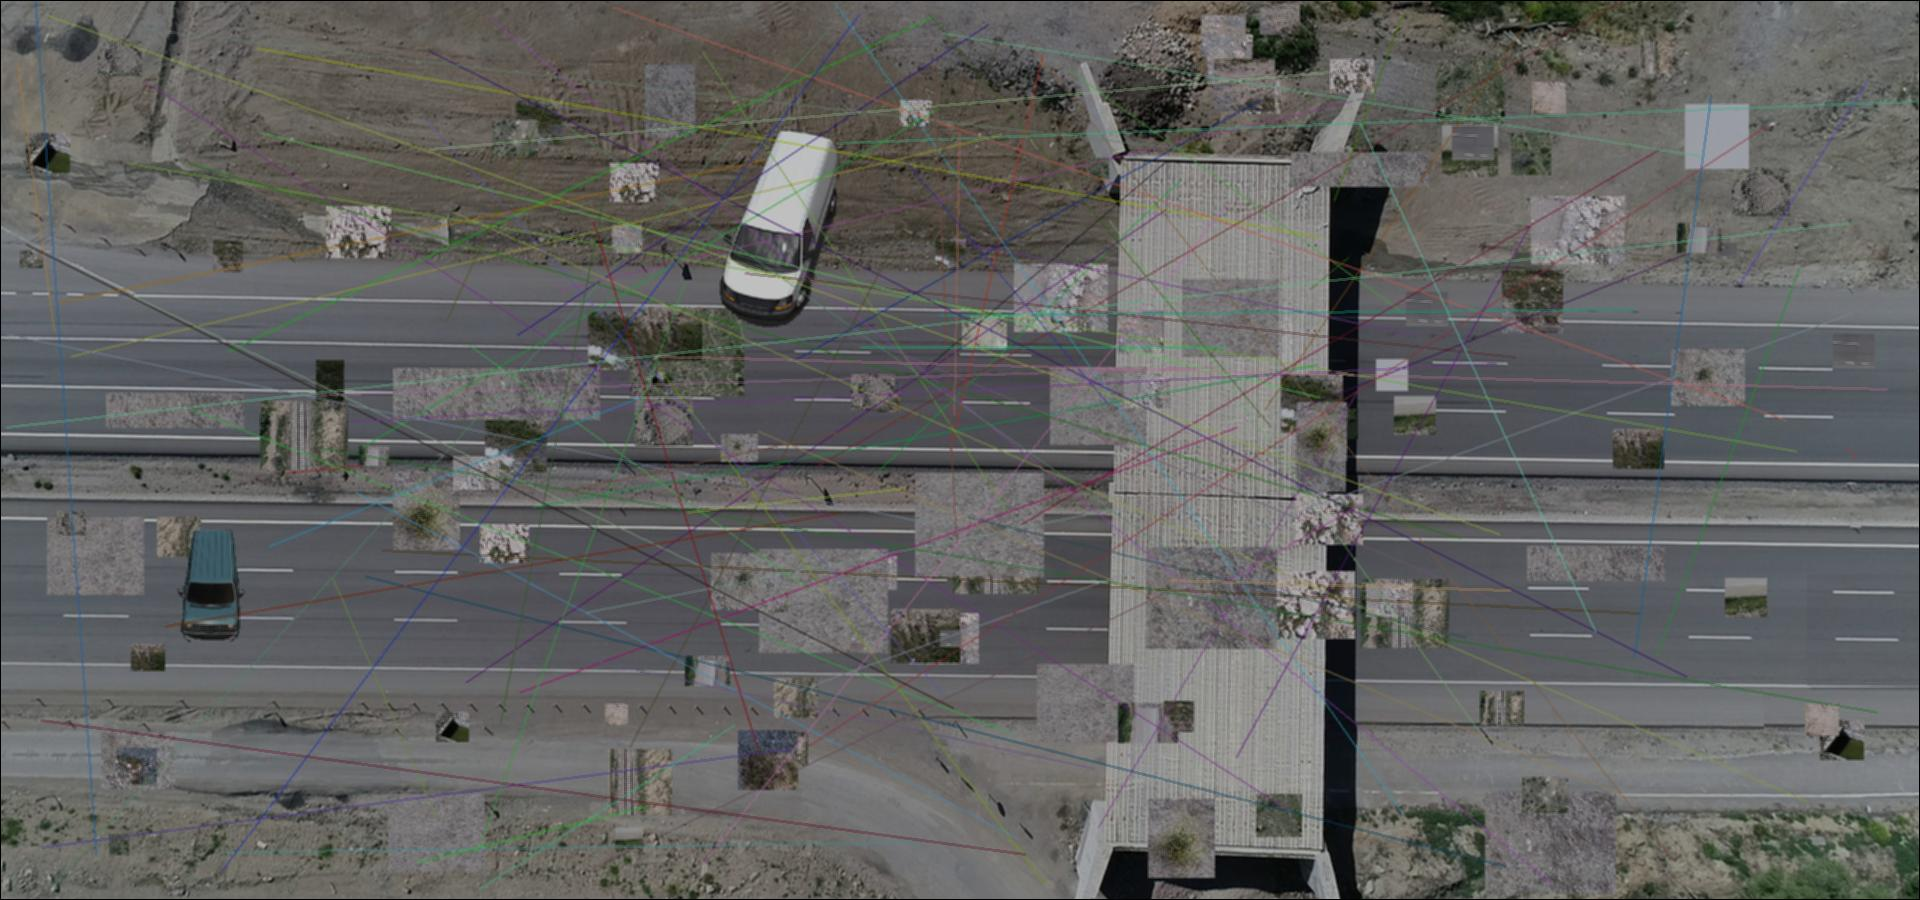arac: (720, 125, 841, 327), (169, 527, 247, 642)
